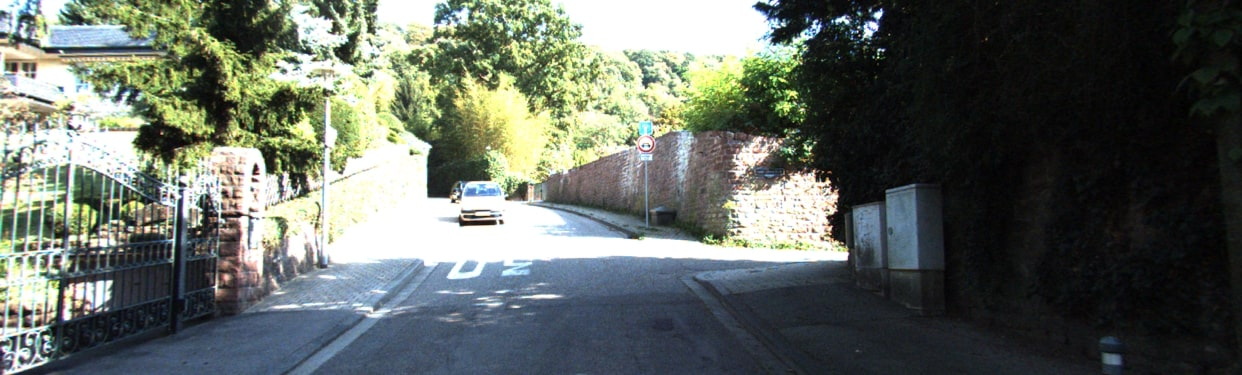car: (458, 180, 513, 226)
